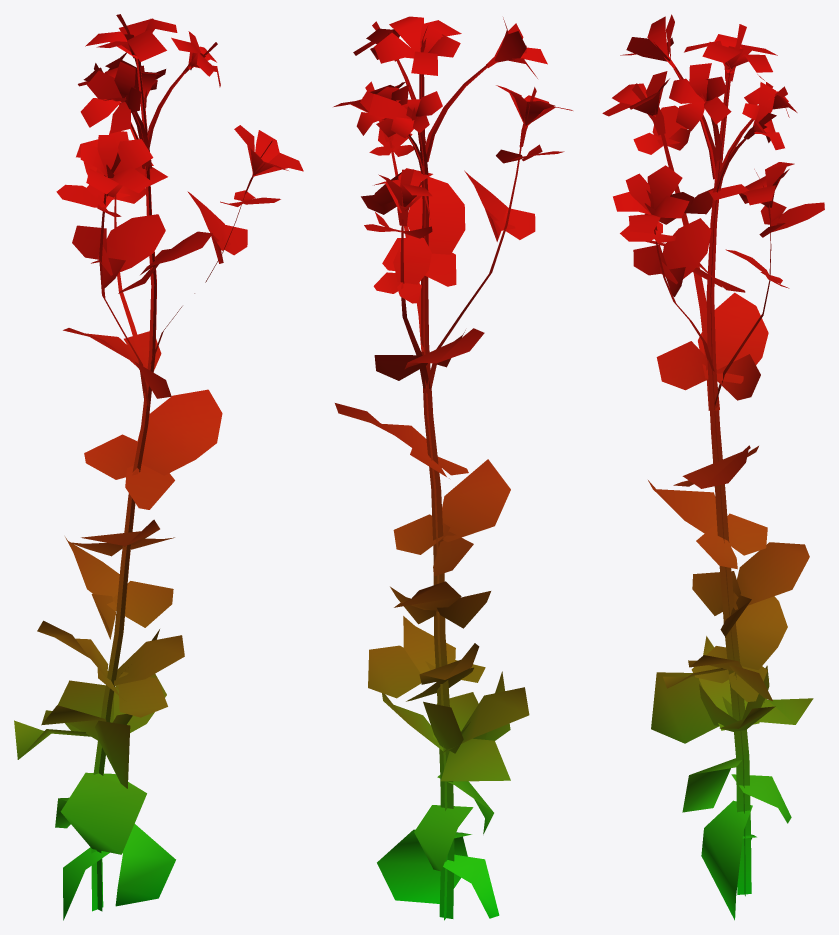
File: Var1_LOD2.fbx
3 views of the same model, side by side, from view 1: azimuth 30°, elevation 25°; view 2: azimuth 150°, elevation 25°; view 3: azimuth 270°, elevation 25° (orthographic).
Visible parts, largest first — view 1: _c0b3_Var1_LOD2; view 2: _c0b3_Var1_LOD2; view 3: _c0b3_Var1_LOD2.
Boxes of the visible parts, box(x1,y1,x2,y2) form: _c0b3_Var1_LOD2: box(14, 14, 303, 920); _c0b3_Var1_LOD2: box(333, 16, 572, 920); _c0b3_Var1_LOD2: box(602, 14, 824, 920).
Bounding box in the file's own units: 39.27 × 144 × 33.1.
